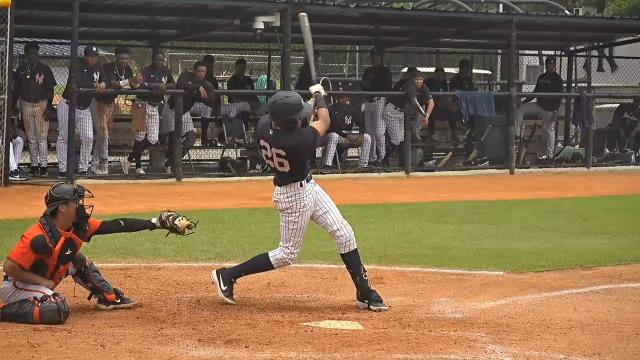bat: (298, 10, 322, 86)
